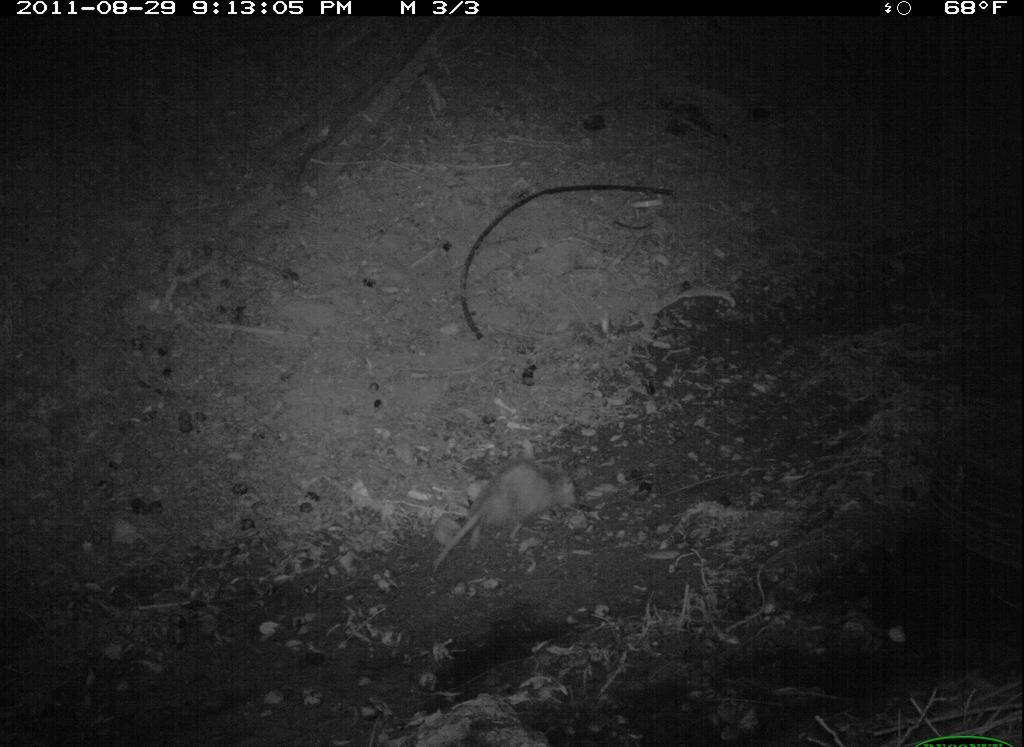opossum: (424, 455, 582, 589)
